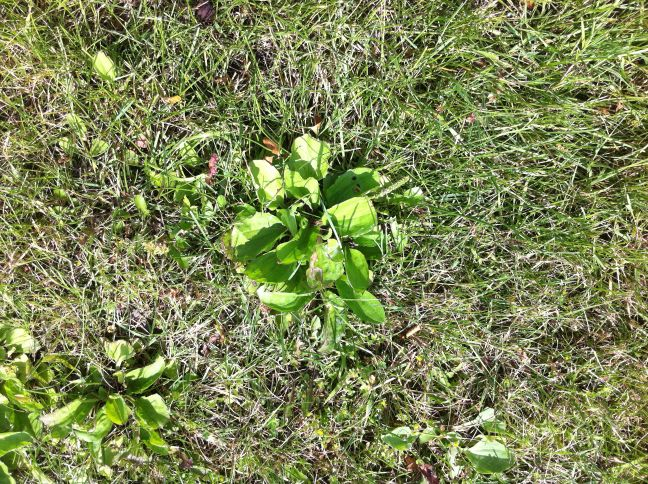weed1: (217, 135, 396, 328), (24, 341, 183, 451)
